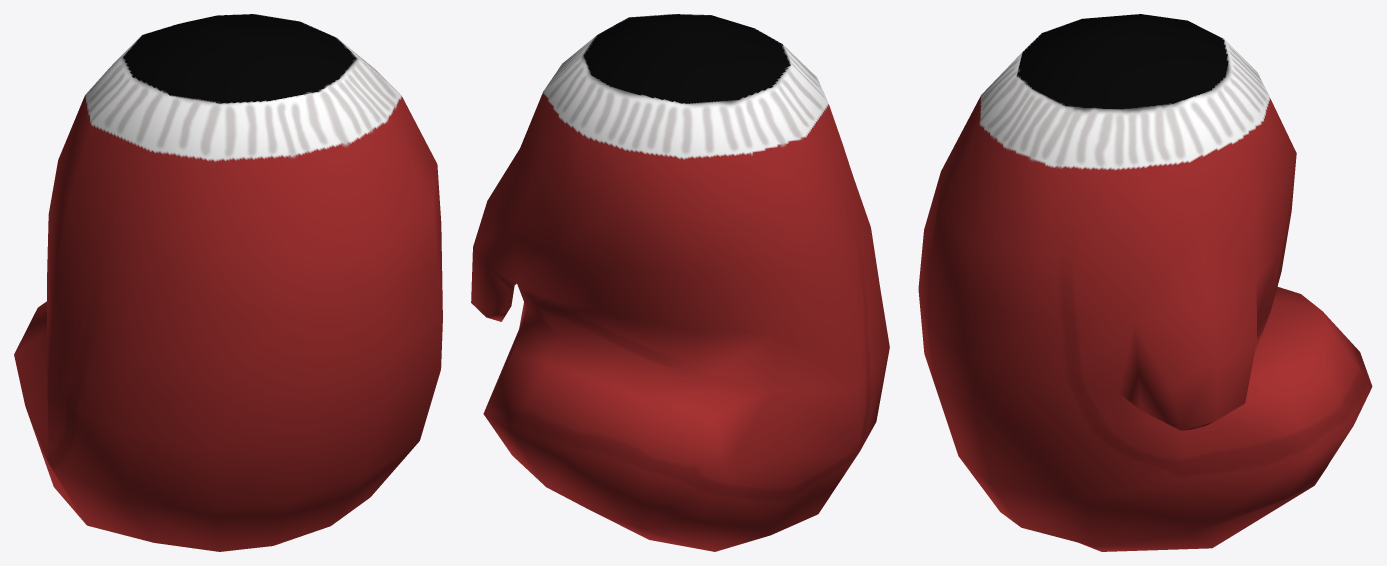
File: GloveR.fbx
3 views of the same model, side by side, from view 1: azimuth 30°, elevation 25°; view 2: azimuth 150°, elevation 25°; view 3: azimuth 270°, elevation 25° (orthographic). The views are drawn at different scales.
Visible parts, largest first — view 1: R_BoxingGlove; view 2: R_BoxingGlove; view 3: R_BoxingGlove.
Part boxes in pixels (x1,y1,x2,y2): R_BoxingGlove: (14,14,442,551); R_BoxingGlove: (471,14,889,551); R_BoxingGlove: (918,14,1372,551).
Bounding box in the file's own units: 41.41 × 51.94 × 42.97.
Materials: 1 (1 with a texture image).
